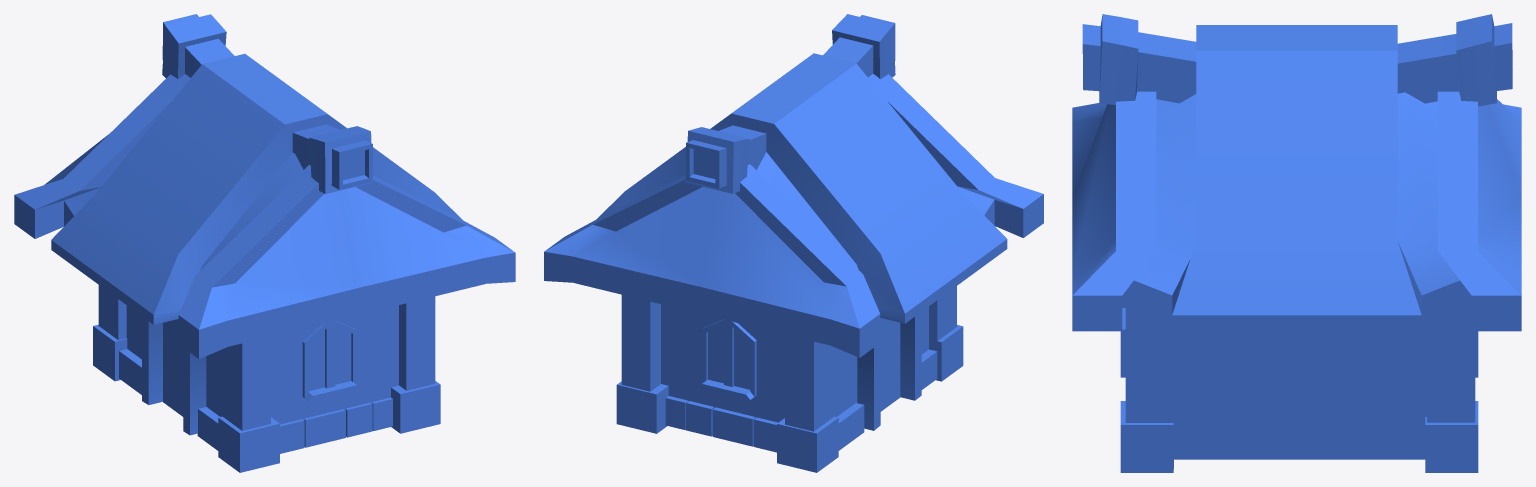
Rendered from House_Variant9.fbx.
3 views of the same model, side by side, from view 1: azimuth 30°, elevation 25°; view 2: azimuth 150°, elevation 25°; view 3: azimuth 270°, elevation 25° (orthographic). The views are drawn at different scales.
Parts seen in each view (by area): view 1: House_Variant9; view 2: House_Variant9; view 3: House_Variant9.
Part boxes in pixels (bbox=[...]): House_Variant9: bbox=[14, 14, 515, 472]; House_Variant9: bbox=[544, 14, 1043, 472]; House_Variant9: bbox=[1072, 14, 1521, 472].
Bounding box in the file's own units: 326 × 303 × 320.
